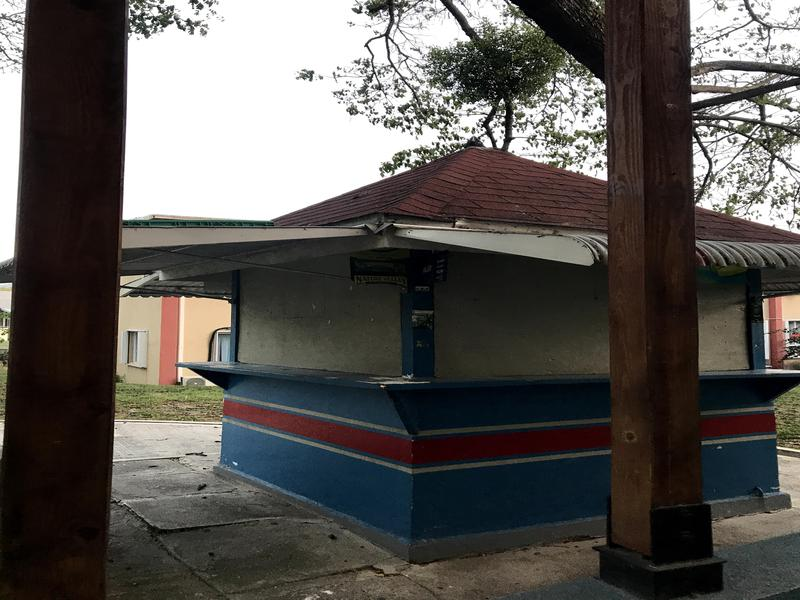18.0051667_-76.74944412_librarystall: (202, 136, 800, 565)
